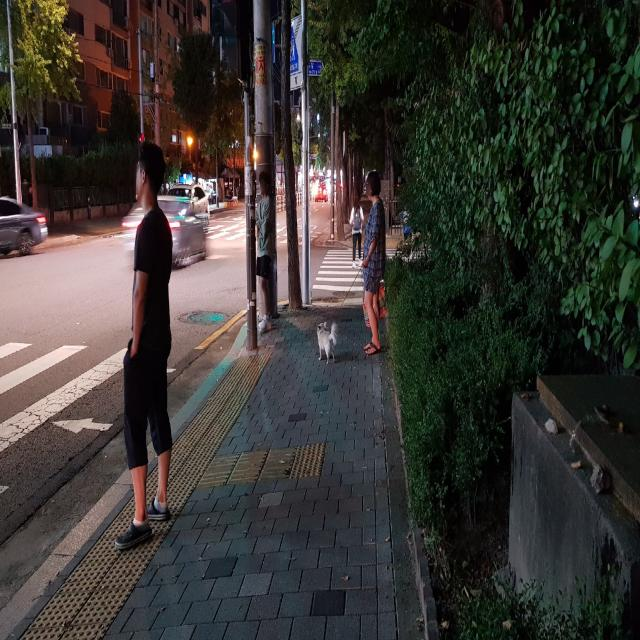횡단보도: (0, 317, 173, 502), (312, 248, 431, 292)
